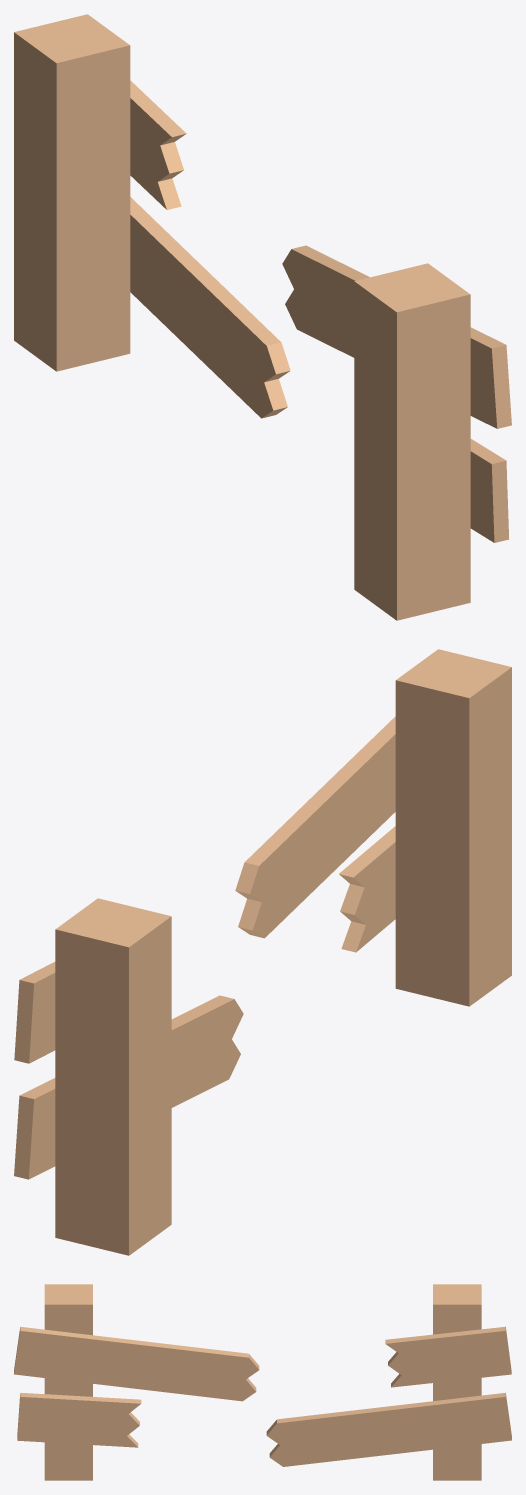
The model's file is fenceBroken.glb.
The picture shows the model from 3 angles, top to bottom: view 1: azimuth 30°, elevation 25°; view 2: azimuth 150°, elevation 25°; view 3: azimuth 270°, elevation 25°; orthographic projection. The views are drawn at different scales.
Visible parts, largest first — view 1: fenceBroken(Clone); view 2: fenceBroken(Clone); view 3: fenceBroken(Clone).
Part boxes in pixels (x1,y1,x2,y2): fenceBroken(Clone): [14, 14, 511, 620]; fenceBroken(Clone): [14, 649, 511, 1255]; fenceBroken(Clone): [14, 1284, 511, 1480].
Size of the model in its own units: 0.12 by 0.4 by 1.03.
